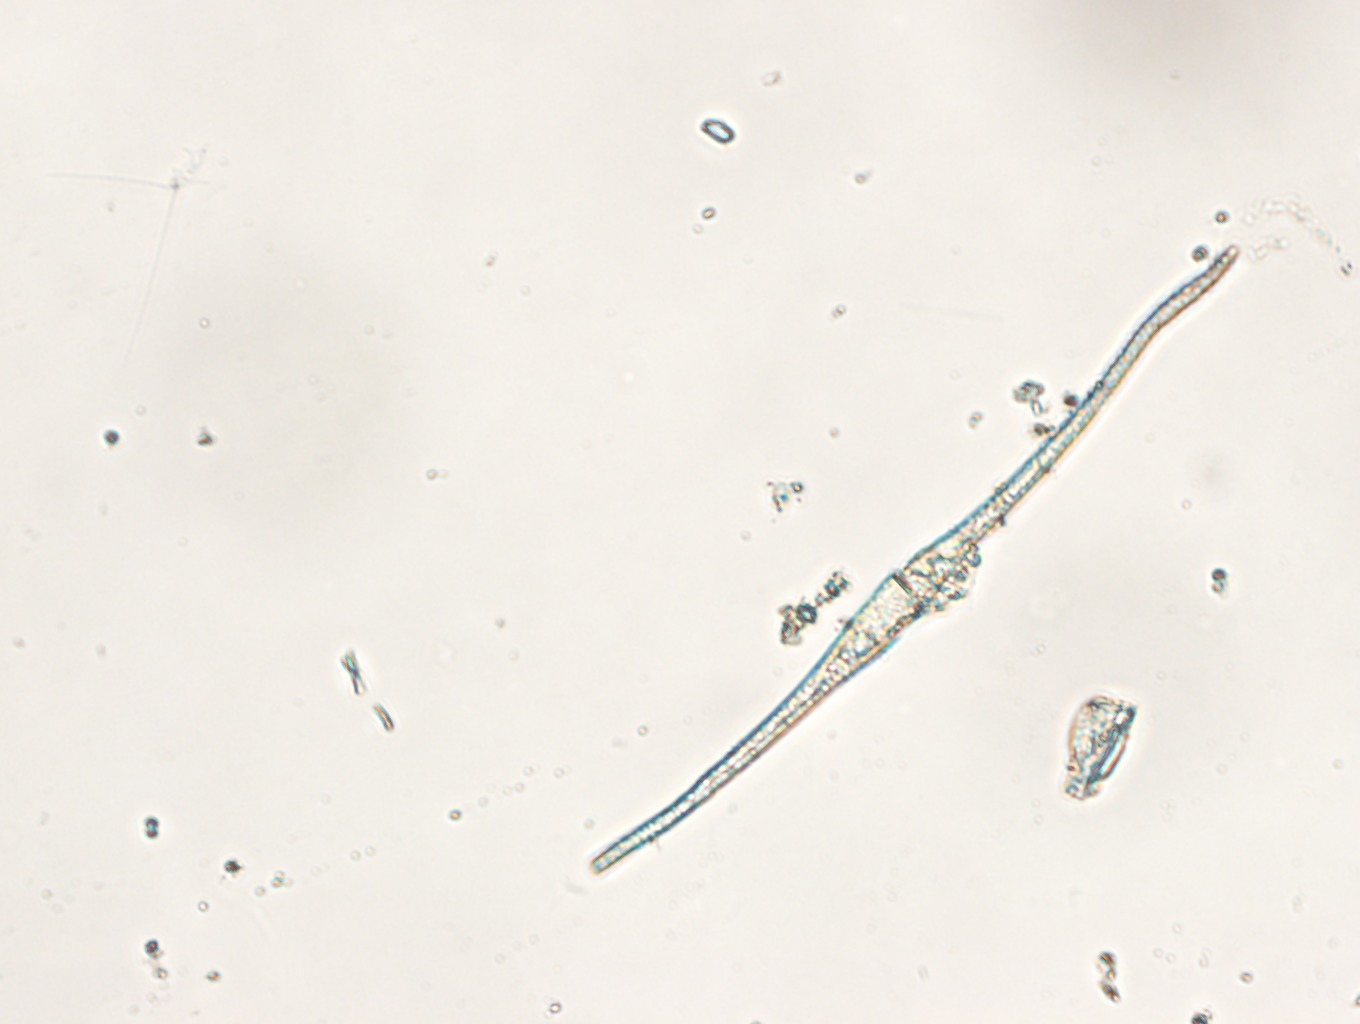ceratium fusus: (591, 247, 1242, 873)
